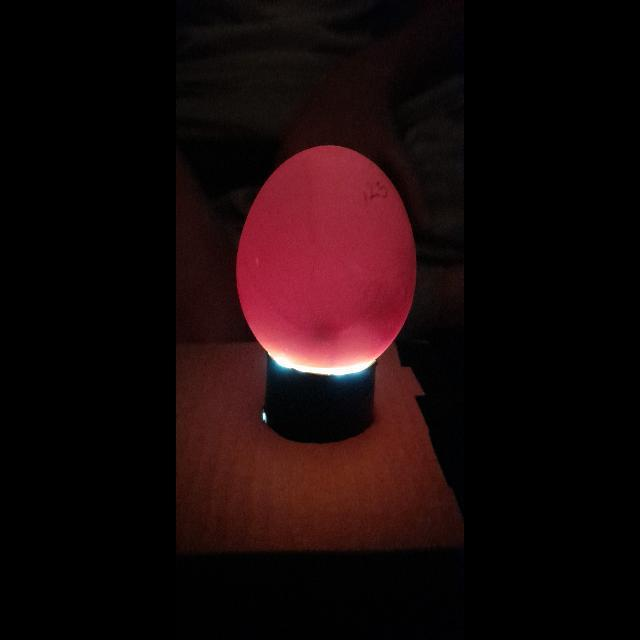Fertile: (239, 128, 419, 372)
